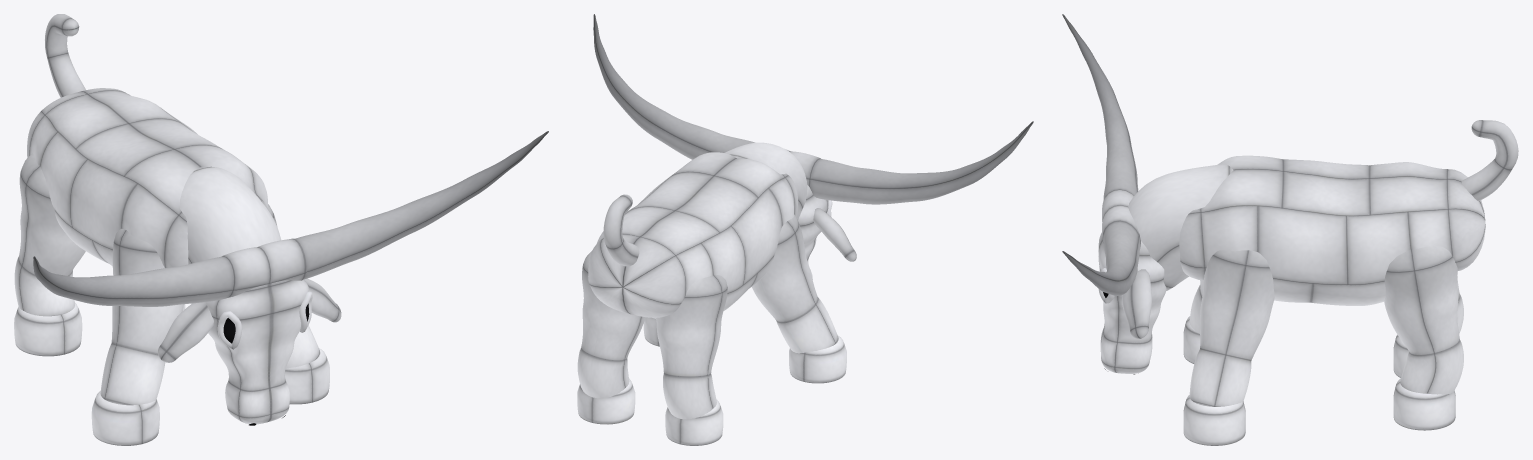
The model's file is longhorn-grazing.glb.
The picture shows the model from 3 angles, left to right: view 1: azimuth 30°, elevation 25°; view 2: azimuth 150°, elevation 25°; view 3: azimuth 270°, elevation 25°; orthographic projection. The views are drawn at different scales.
Visible parts, largest first — view 1: body, head; view 2: body, head; view 3: body, head.
Part boxes in pixels (box(x1,y1,x2,y2)): body: box(14, 14, 329, 445); head: box(33, 131, 548, 425); body: box(577, 152, 846, 445); head: box(593, 14, 1033, 279); body: box(1179, 120, 1518, 445); head: box(1062, 14, 1233, 374).
Bounding box in the file's own units: 8.27 × 4.43 × 6.71.
Materials: 2 (1 with a texture image).
